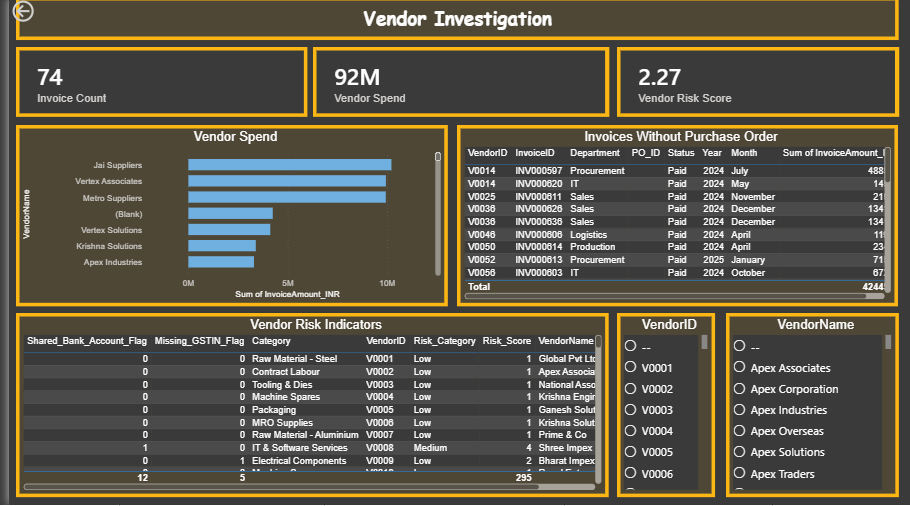

The page's visual inventory and layout, read from the dashboard file:
{"tool":"powerbi","page":{"name":"Vendor Investigation","canvas":[1280,720],"ordinal":4},"visuals":[{"type":"textbox","box":[9.9,0,1251.5,60.9],"z":0},{"type":"listSlicer","fields":{"Values":["Vendor_Risk_Review_Table.VendorID"]},"box":[861.7,447.9,138.9,260.8],"z":1000},{"type":"listSlicer","fields":{"Values":["Vendor_Risk_Review_Table.VendorName"]},"box":[1016.6,447.8,244.8,260.6],"z":2000},{"type":"cardVisual","fields":{"Data":["Avg(Vendor_Risk_Review_Table.Risk_Score)"]},"box":[861.7,70.9,399.7,99.2],"z":3000},{"type":"cardVisual","fields":{"Data":["Sum(Vendor_Risk_Review_Table.Total_Spend_INR)"]},"box":[430.9,70.9,419.5,99.2],"z":4000},{"type":"cardVisual","fields":{"Data":["Sum(Maverick_Procurement_Summary.Invoice_Count)"]},"box":[10.1,70.6,413.3,99.4],"z":5000},{"type":"tableEx","title":"Vendor Risk Indicators","fields":{"Values":["Sum(Vendor_Risk_Review_Table.Shared_Bank_Account_Flag)","Sum(Vendor_Risk_Review_Table.Missing_GSTIN_Flag)","Vendor_Risk_Review_Table.Category","Vendor_Risk_Review_Table.VendorID","Vendor_Risk_Review_Table.Risk_Category","Sum(Vendor_Risk_Review_Table.Risk_Score)","Vendor_Risk_Review_Table.VendorName"]},"box":[9.9,447.9,840.5,260.8],"z":6000},{"type":"tableEx","title":"Invoices Without Purchase Order","fields":{"Values":["Invoices_Payments_Cleaned.VendorID","Invoices_Payments_Cleaned.InvoiceID","Invoices_Payments_Cleaned.Department","Invoices_Payments_Cleaned.PO_ID","Invoices_Payments_Cleaned.Status","Invoices_Payments_Cleaned.InvoiceDate.Variation.Date Hierarchy.Year","Invoices_Payments_Cleaned.InvoiceDate.Variation.Date Hierarchy.Month","Sum(Invoices_Payments_Cleaned.InvoiceAmount_INR)"]},"box":[635,181.4,625,256.5],"z":7000},{"type":"actionButton","box":[0,0,100,40],"z":8000},{"type":"clusteredBarChart","title":"Vendor Spend","fields":{"Y":["Sum(Invoices_Payments_Cleaned.InvoiceAmount_INR)"],"Category":["Vendor_Master_Cleaned.VendorName"]},"box":[9.9,181.4,612.3,256.5],"z":9000}]}

Visuals, with their boxes in screenshot pixels (x1, y1, x2, y2), scaled from the page's 1280x720 canvas onto the 910x506 screenshot:
textbox: l=7, t=0, r=897, b=43
listSlicer - Vendor_Risk_Review_Table.VendorID: l=613, t=315, r=711, b=498
listSlicer - Vendor_Risk_Review_Table.VendorName: l=723, t=315, r=897, b=498
cardVisual - Avg(Vendor_Risk_Review_Table.Risk_Score): l=613, t=50, r=897, b=120
cardVisual - Sum(Vendor_Risk_Review_Table.Total_Spend_INR): l=306, t=50, r=605, b=120
cardVisual - Sum(Maverick_Procurement_Summary.Invoice_Count): l=7, t=50, r=301, b=119
"Vendor Risk Indicators" tableEx: l=7, t=315, r=605, b=498
"Invoices Without Purchase Order" tableEx: l=451, t=127, r=896, b=308
actionButton: l=0, t=0, r=71, b=28
"Vendor Spend" clusteredBarChart: l=7, t=127, r=442, b=308
